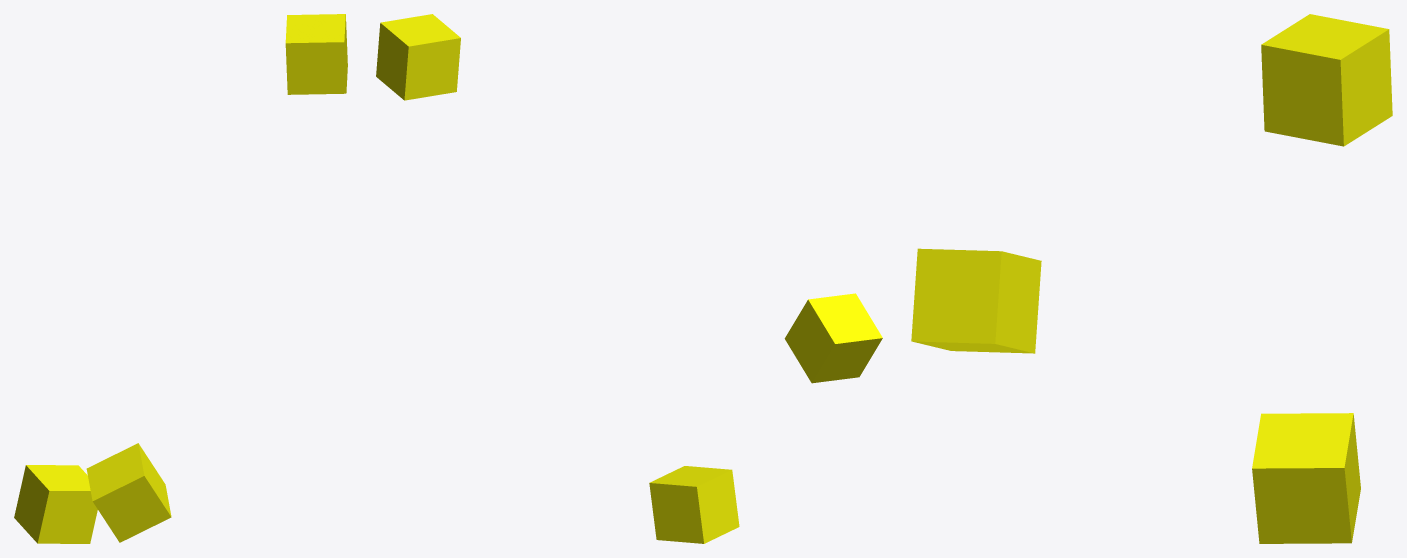
The model's file is cubes_scene_filtered.dae.
3 renders of one model, left to right at view 1: azimuth 30°, elevation 25°; view 2: azimuth 150°, elevation 25°; view 3: azimuth 270°, elevation 25°, orthographic. The views are drawn at different scales.
Parts seen in each view (by area): view 1: Cube_073, Cube_081, Cube_119; view 2: Cube_081, Cube_119, Cube_073; view 3: Cube_119, Cube_073, Cube_081.
Boxes of the visible parts, box(x1,y1,x2,y2) form: Cube_073: box(14, 465, 97, 543); Cube_081: box(86, 443, 171, 542); Cube_119: box(285, 14, 347, 94); Cube_081: box(784, 293, 882, 383); Cube_119: box(376, 14, 460, 100); Cube_073: box(649, 466, 739, 543); Cube_119: box(1261, 14, 1392, 146); Cube_073: box(1252, 413, 1360, 543); Cube_081: box(911, 248, 1041, 353).
Bounding box in the file's own units: 14.81 × 10.33 × 16.61.
